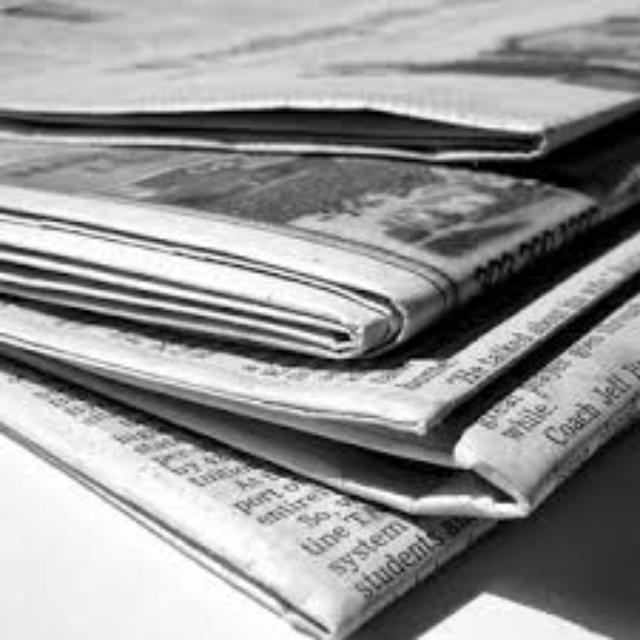cardboard paper: (353, 424, 634, 634), (68, 509, 142, 612), (518, 0, 634, 26)
